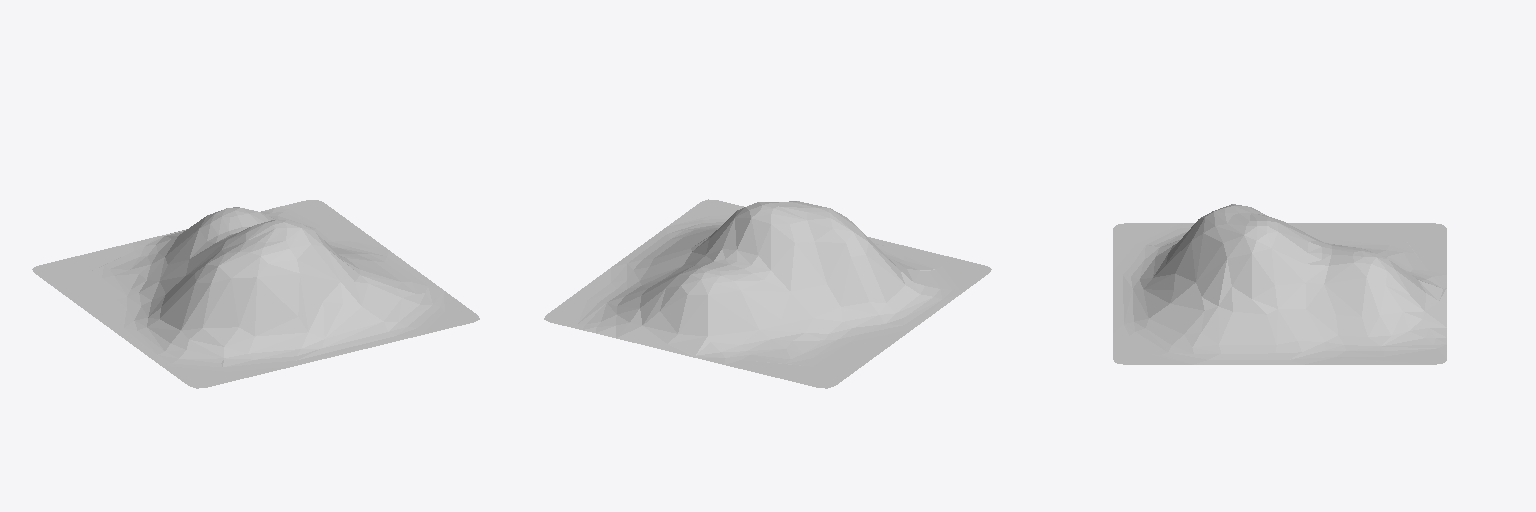
File: Ground06.obj
3 renders of one model, left to right at view 1: azimuth 30°, elevation 25°; view 2: azimuth 150°, elevation 25°; view 3: azimuth 270°, elevation 25°, orthographic.
Visible parts, largest first — view 1: Plane; view 2: Plane; view 3: Plane.
Part boxes in pixels (left/top/right/bottom): Plane: left=32, top=200, right=479, bottom=388; Plane: left=544, top=199, right=991, bottom=388; Plane: left=1113, top=204, right=1446, bottom=364.
Size of the model in its own units: 40 by 10.05 by 40.